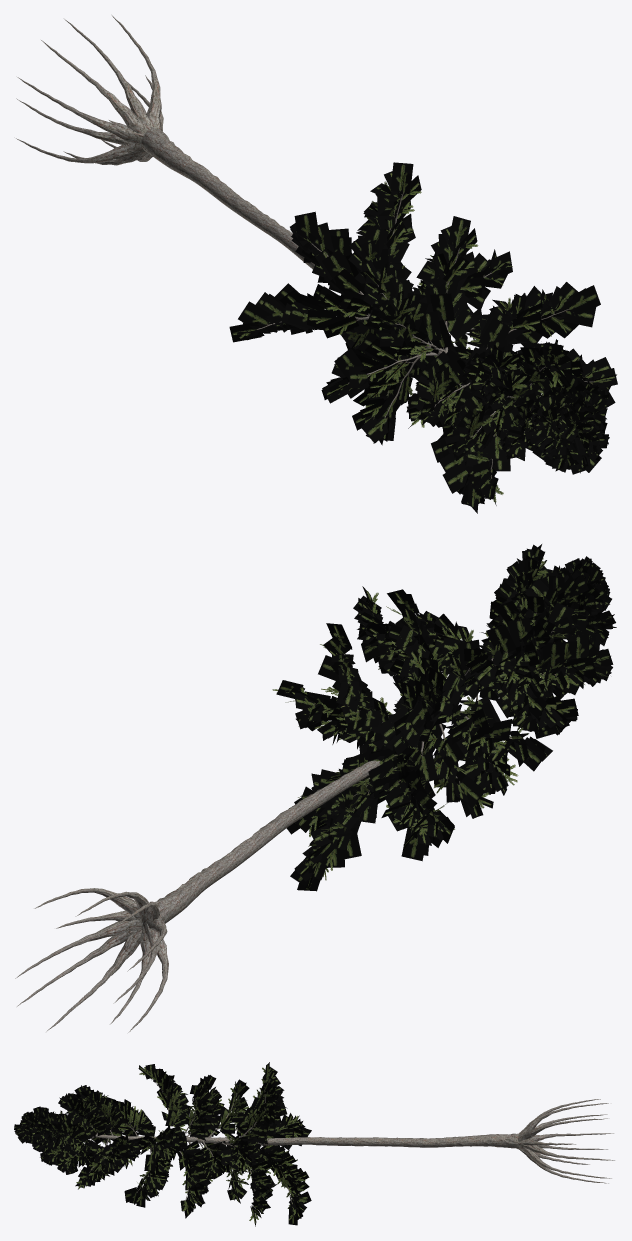
The picture shows the model from 3 angles, top to bottom: view 1: azimuth 30°, elevation 25°; view 2: azimuth 150°, elevation 25°; view 3: azimuth 270°, elevation 25°; orthographic projection. The views are drawn at different scales.
Visible parts, largest first — view 1: BL09a; view 2: BL09a; view 3: BL09a.
Part boxes in pixels (x1,y1,x2,y2): BL09a: [16, 15, 617, 513]; BL09a: [15, 544, 616, 1032]; BL09a: [14, 1062, 614, 1226].
Bounding box in the file's own units: 9.18 × 9.55 × 35.43.
3 materials, 3 textured.
